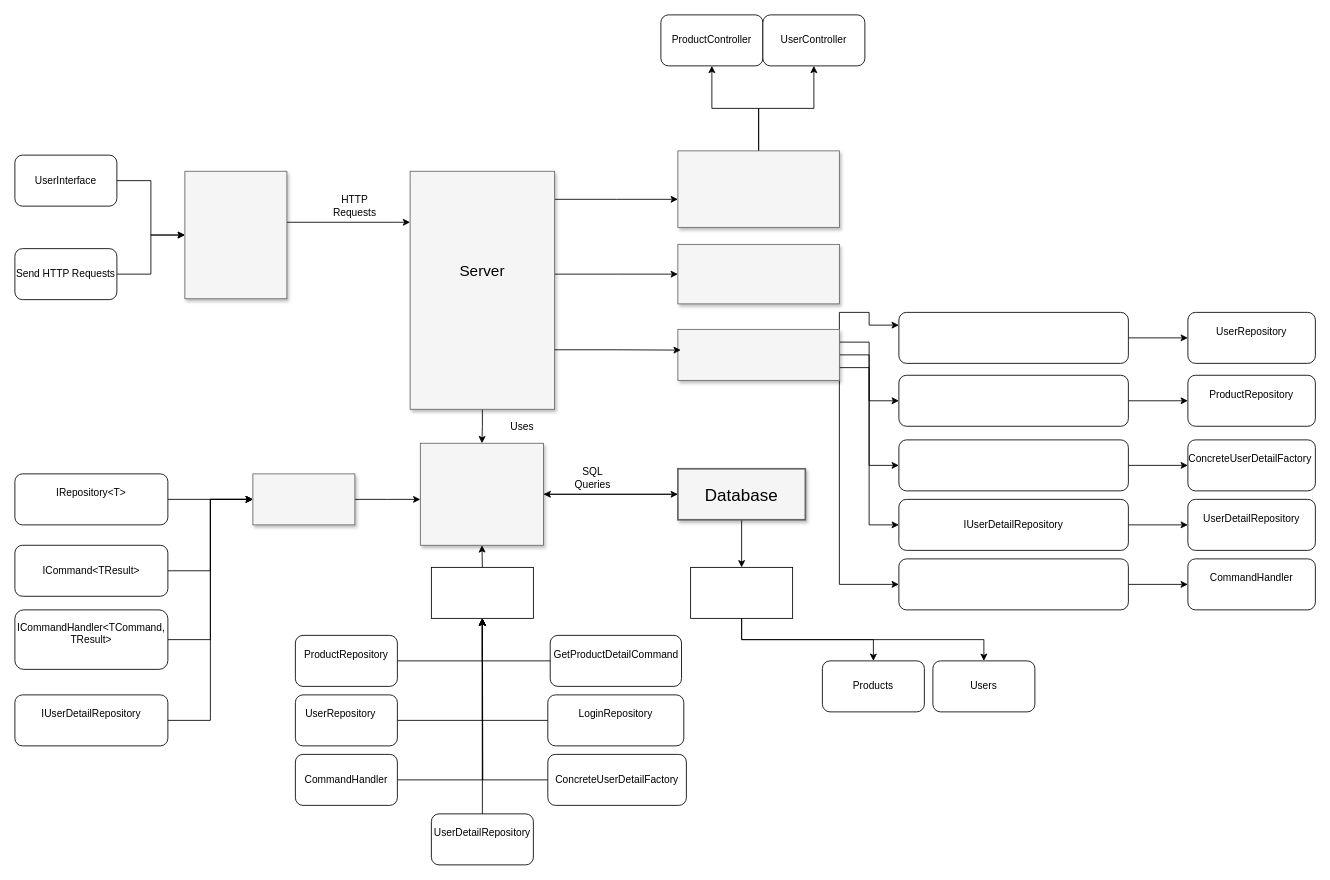
This 1330x880 diagram has some shape labels left out. Each missing label, with the centre of its shape:
"Classes" goes at pixel 482 592.
"Client" goes at pixel 236 236.
"Controller" goes at pixel 759 190.
"Dependency Injection" goes at pixel 759 355.
"ICommandHandler < GetProductDetailCommand, Product >" goes at pixel 1013 584.
"Interface" goes at pixel 304 500.
"IRepository < Product >" goes at pixel 1013 400.
"IRepository<User>" goes at pixel 1013 337.
"Repository" goes at pixel 482 495.
"Services - FruitableStoreContext" goes at pixel 759 275.
"Tables" goes at pixel 741 592.
"UserDetailFactory" goes at pixel 1013 465.
